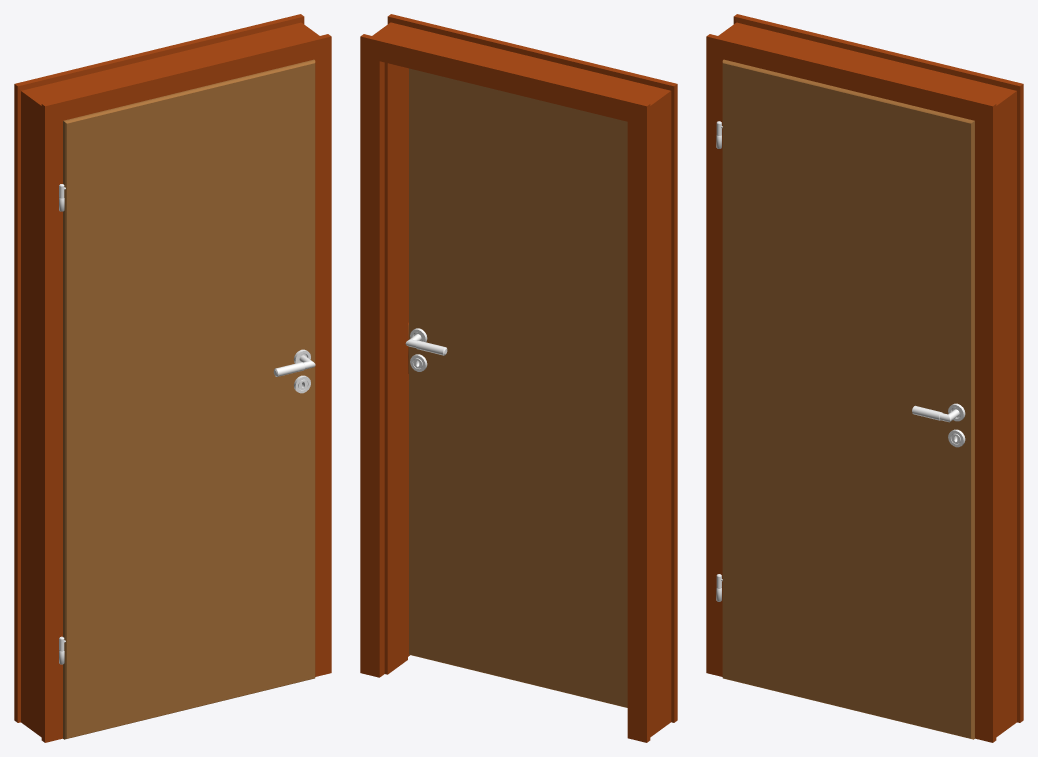
The model's file is porta.fbx.
3 views of the same model, side by side, from view 1: azimuth 30°, elevation 25°; view 2: azimuth 150°, elevation 25°; view 3: azimuth 330°, elevation 25° (orthographic).
Parts seen in each view (by area): view 1: porta, base; view 2: porta, base; view 3: porta, base.
Part boxes in pixels (bbox=[...]): porta: bbox=[59, 59, 315, 739]; base: bbox=[14, 14, 331, 742]; porta: bbox=[405, 68, 627, 707]; base: bbox=[360, 14, 677, 742]; porta: bbox=[716, 59, 974, 739]; base: bbox=[706, 14, 1023, 742].
Size of what is drawn, in the model's own units: 0.97 by 2.06 by 0.2606.
